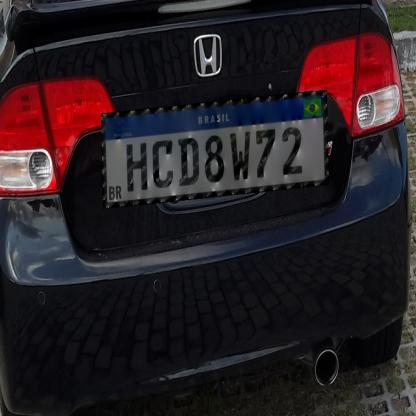PlacaM: (101, 90, 329, 209)
